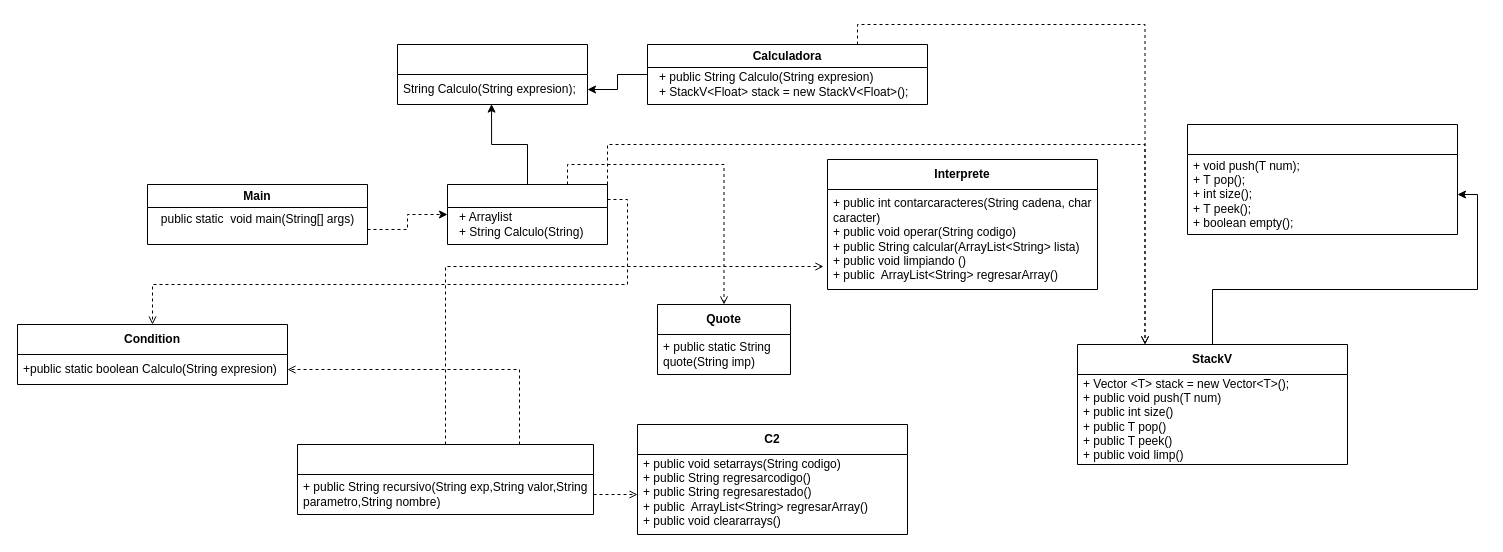
The diagram is 1503 pixels wide and 552 high, and some of its shapes have lost their labels. The shapes that lost their labels are listed below. From the top down, each one's box as (x1, y1, x2, y2) in pixels, then its label:
(396, 44, 588, 104): ICalculadora <<Interface>>
(1186, 124, 1458, 234): IStack <<Interface>>
(446, 184, 608, 244): Cal2
(296, 444, 594, 514): Def
